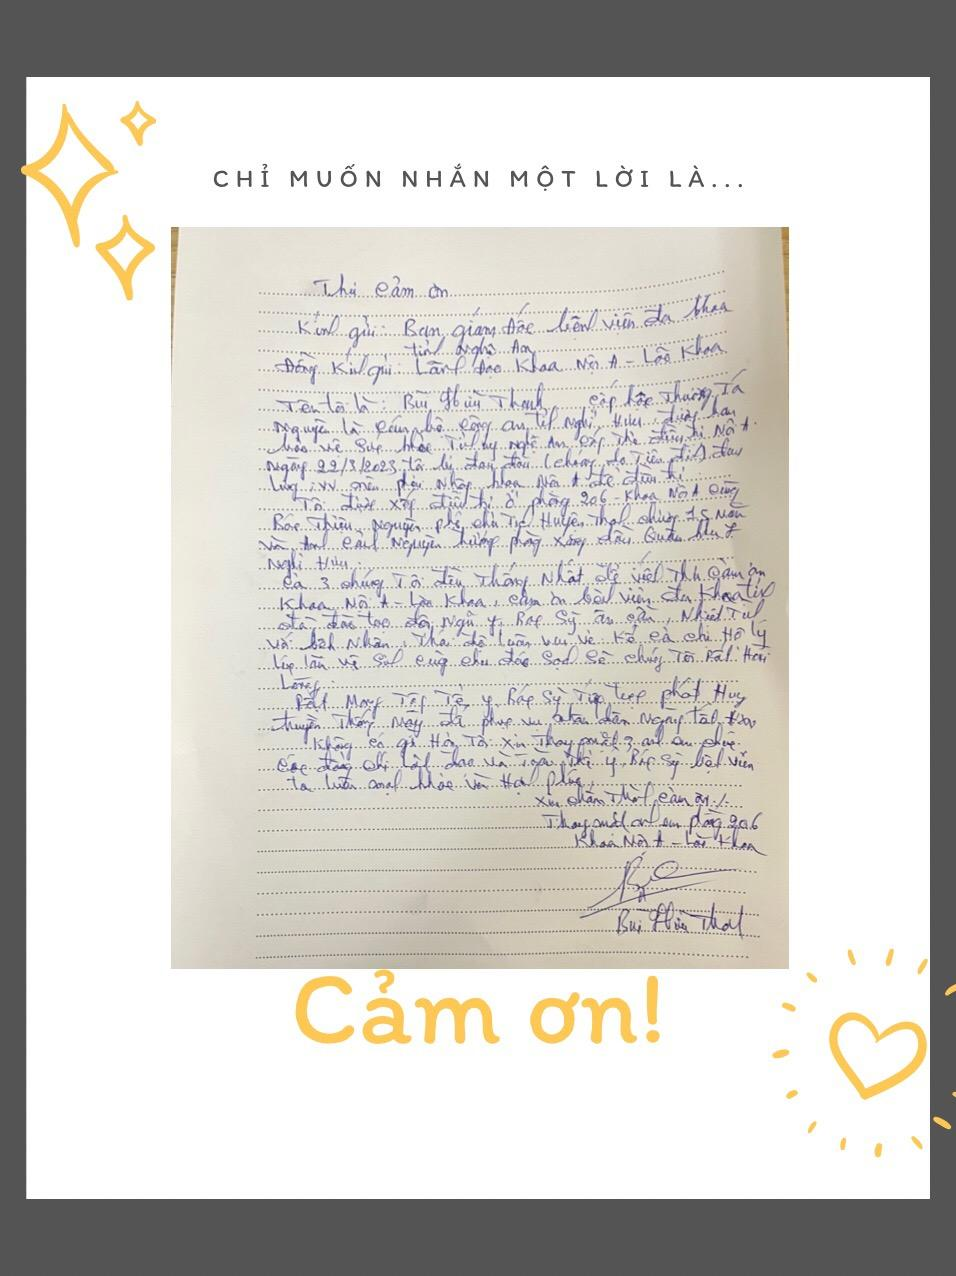text: (291, 966, 663, 1050), (295, 289, 735, 349), (274, 364, 750, 419), (275, 331, 726, 389), (279, 548, 769, 598), (270, 394, 745, 445), (261, 415, 749, 462), (278, 575, 778, 620), (209, 156, 749, 195), (293, 674, 749, 720), (290, 475, 754, 520), (260, 436, 750, 478), (274, 704, 760, 746), (255, 518, 742, 559), (267, 640, 772, 679), (269, 499, 753, 539), (262, 618, 768, 656), (265, 459, 688, 504), (305, 721, 741, 763), (275, 599, 769, 635), (275, 744, 758, 779), (575, 851, 740, 920), (289, 762, 593, 798), (545, 804, 765, 840), (532, 779, 730, 815), (569, 825, 770, 857), (311, 269, 453, 305), (614, 899, 743, 936), (405, 333, 534, 361), (264, 549, 354, 583), (278, 672, 324, 698)
